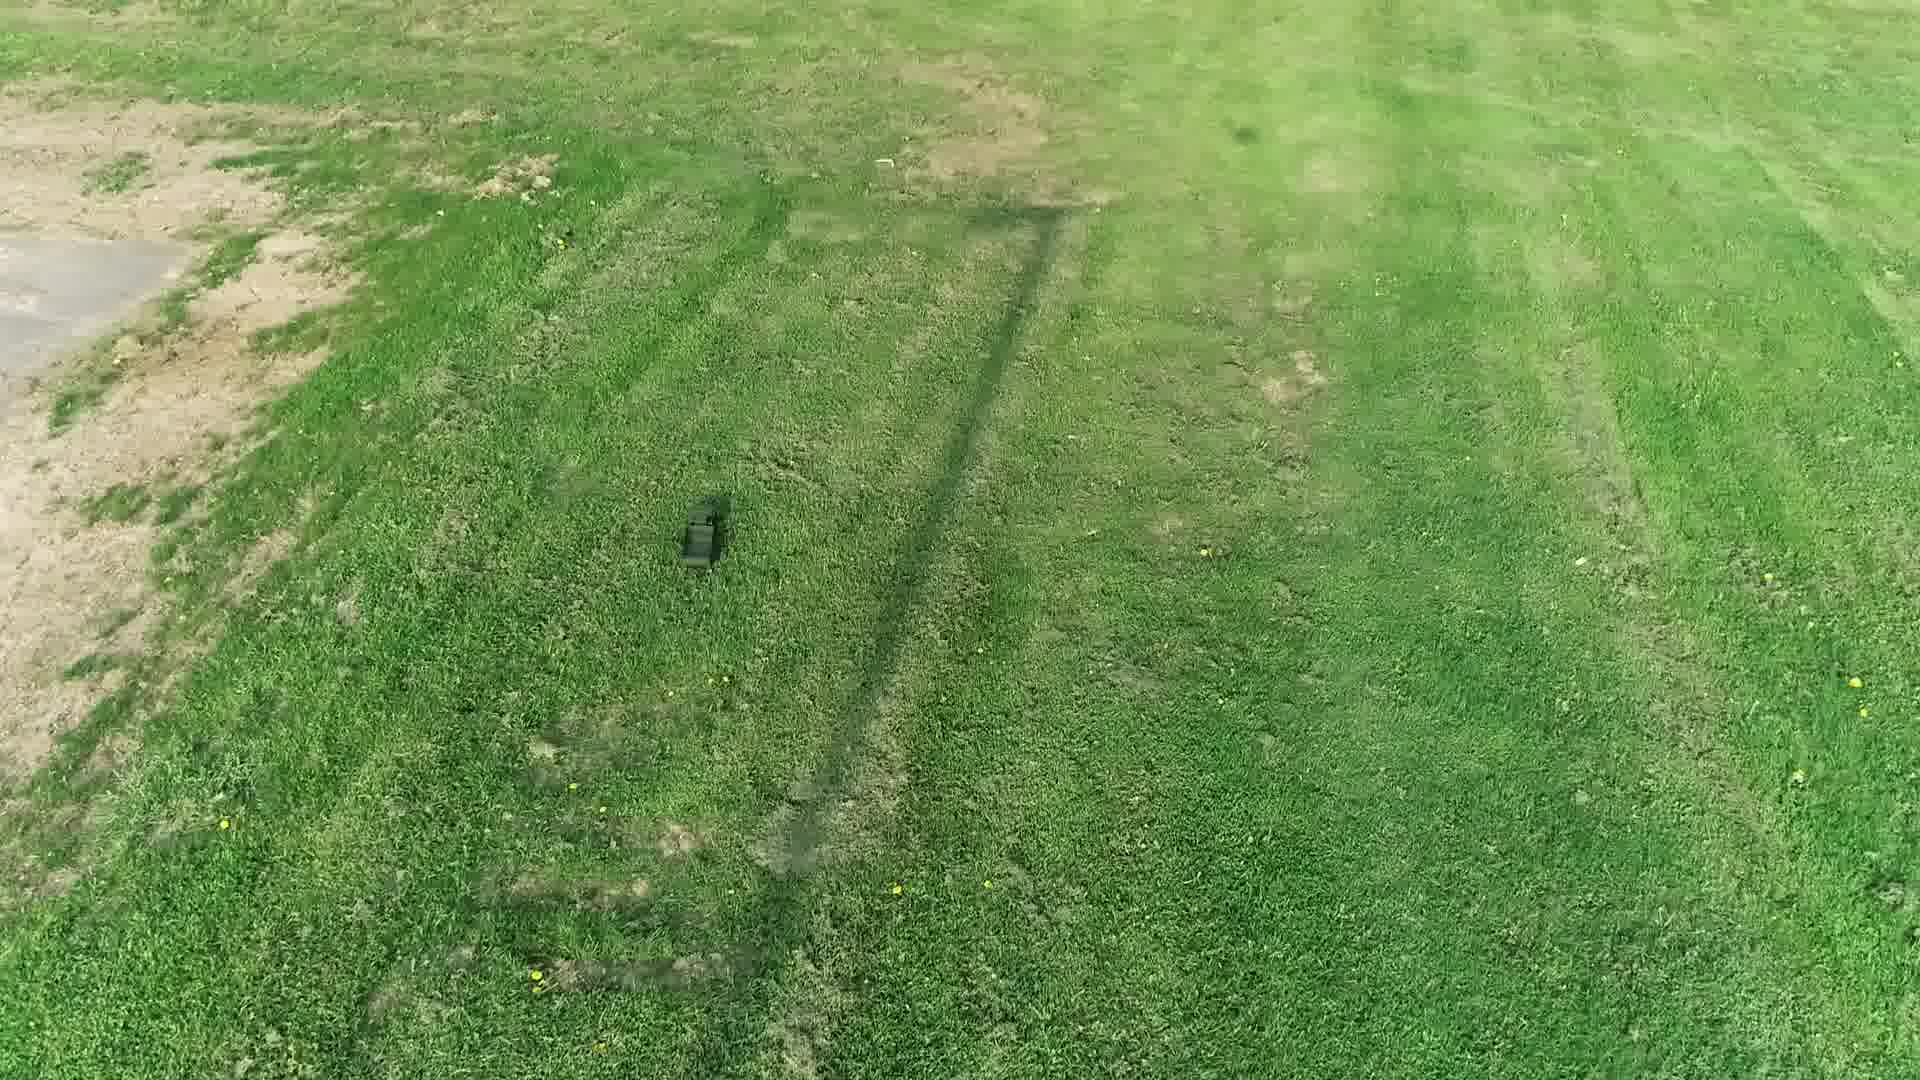transporter9: (673, 500, 725, 572)
